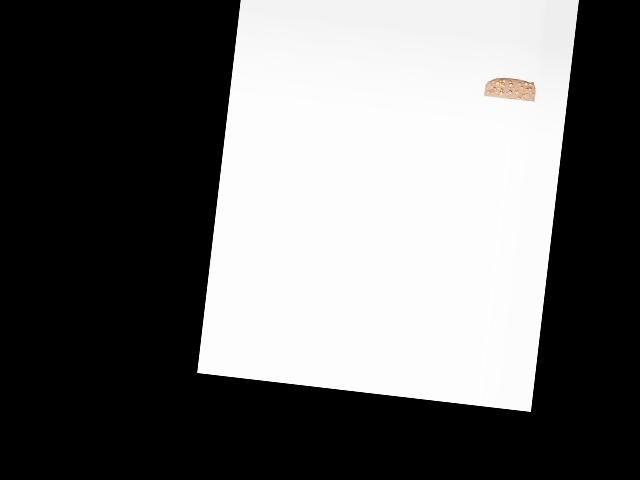chocolate: (483, 71, 537, 104)
